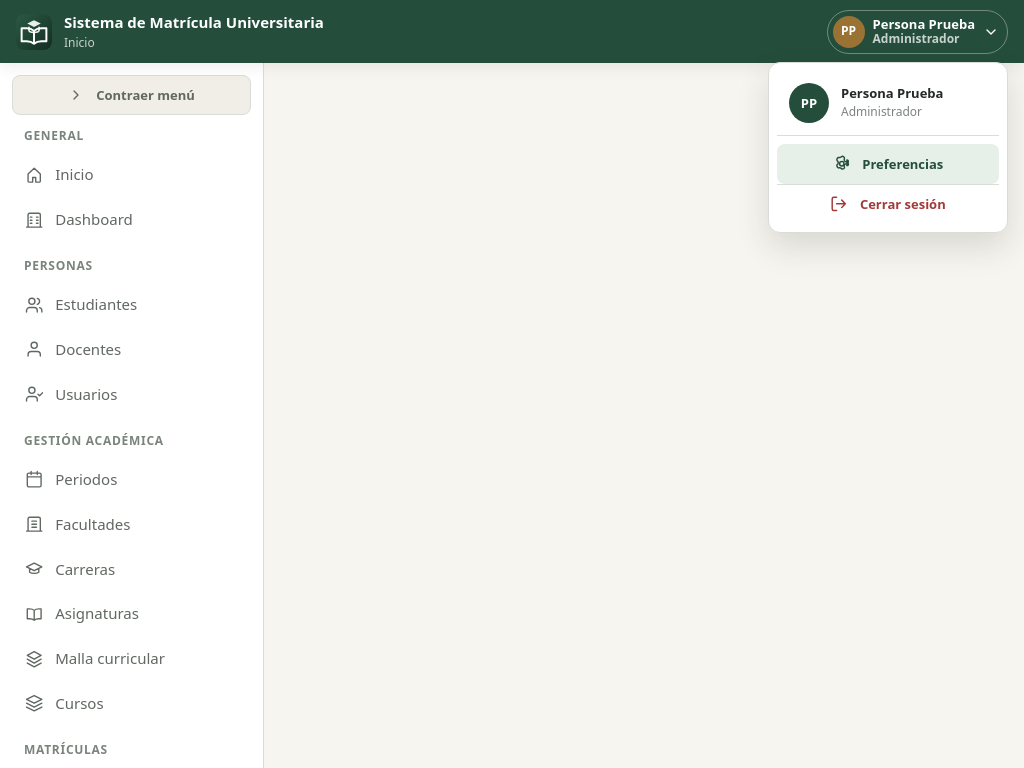
LayoutPrincipalComponent › muestra Cerrando sesion durante el cierre
The width and height of the screenshot is (1024, 768).
Click the menu item with class "menu-usuario__opcion--salir" at (888, 204), box [777, 184, 999, 224]
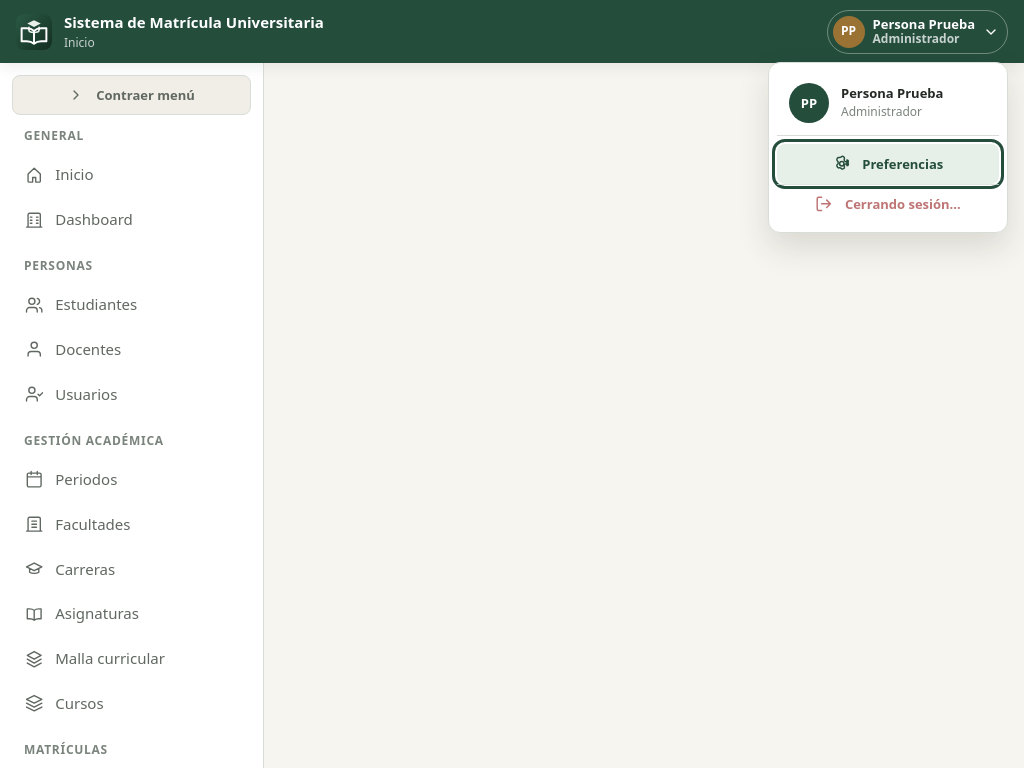
Now the menu item with class "menu-usuario__opcion--salir" reads "Cerrando sesión...", box [777, 184, 999, 224]
